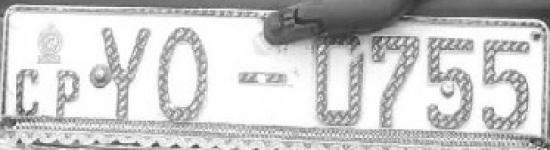-: (236, 66, 292, 89)
0: (311, 28, 366, 130)
5: (479, 36, 535, 133), (423, 32, 476, 131)
7: (368, 28, 422, 130)
C: (9, 66, 40, 117)
O: (154, 21, 211, 122)
P: (53, 66, 82, 117)
Y: (98, 21, 148, 120)
